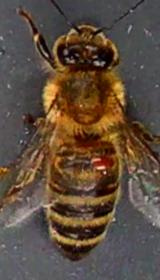varroa_mite: (88, 148, 115, 177)
